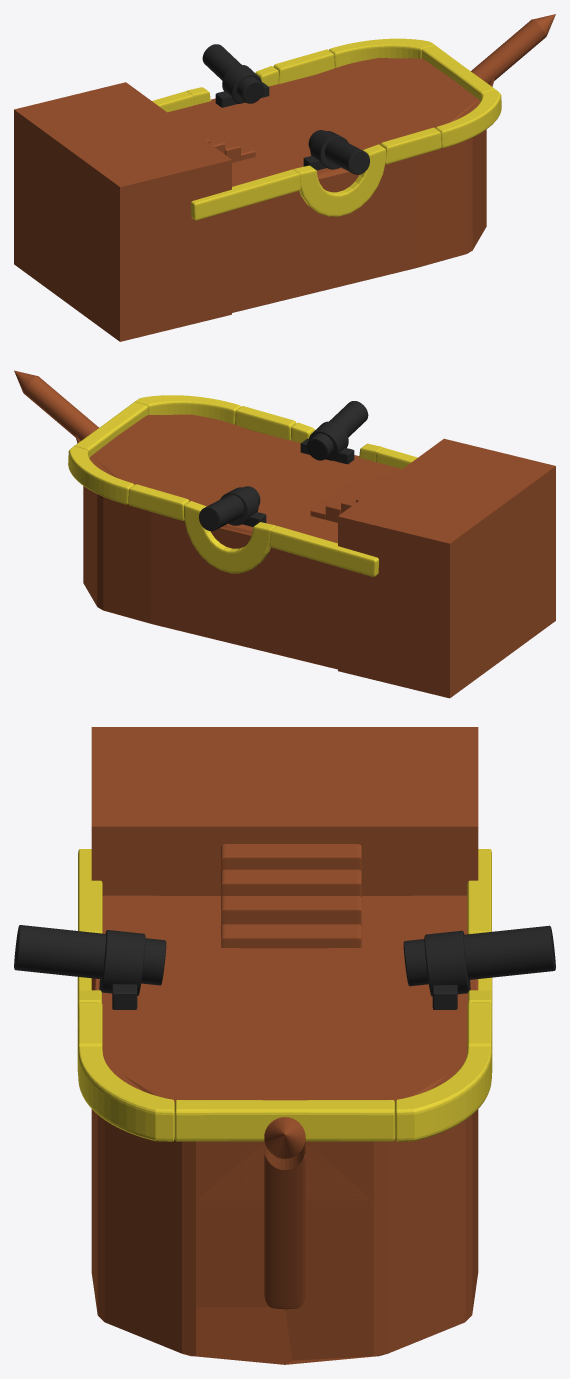
The model's file is player_boat_v1.fbx.
The picture shows the model from 3 angles, top to bottom: view 1: azimuth 30°, elevation 25°; view 2: azimuth 150°, elevation 25°; view 3: azimuth 270°, elevation 25°; orthographic projection. The views are drawn at different scales.
Visible parts, largest first — view 1: Cube.002; view 2: Cube.002; view 3: Cube.002.
Part boxes in pixels (x1=…): Cube.002: x1=14, y1=14, x2=555, y2=341; Cube.002: x1=14, y1=370, x2=555, y2=698; Cube.002: x1=14, y1=727, x2=555, y2=1364.
Bounding box in the file's own units: 1466 × 488 × 772.
